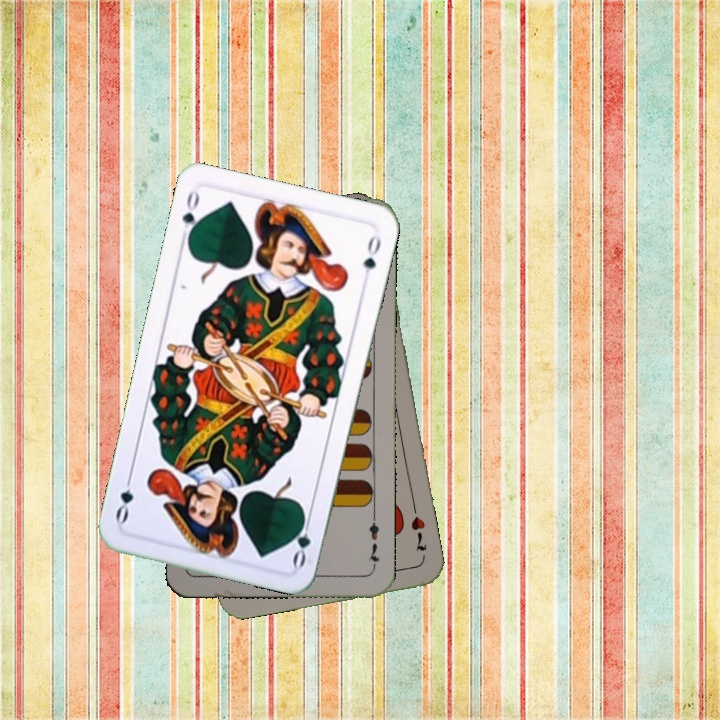E7: (364, 512, 382, 571)
GO: (288, 509, 314, 570), (177, 187, 203, 246)
H7: (406, 512, 430, 554)
